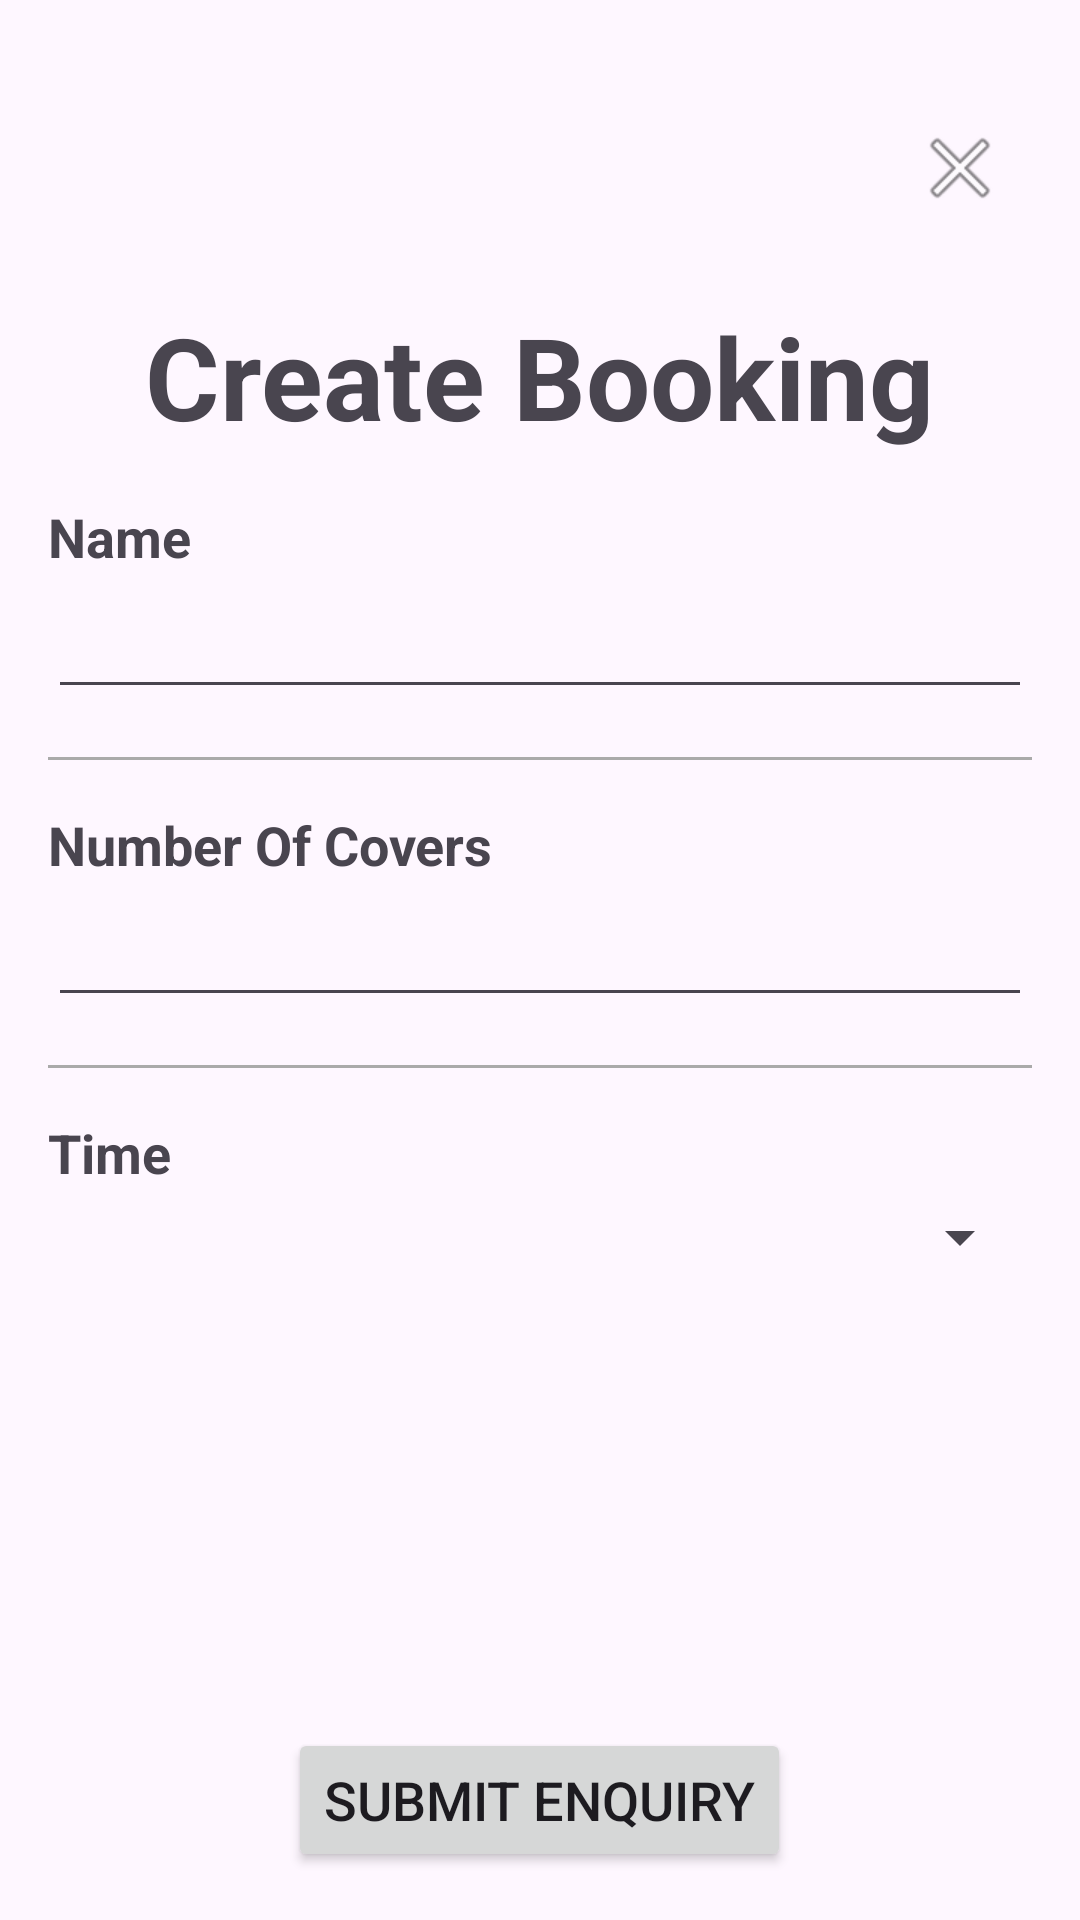

Named icons in this screenshot (1080px×1920px) and their centers, (x,y):
close clear cancel: (960,168)
